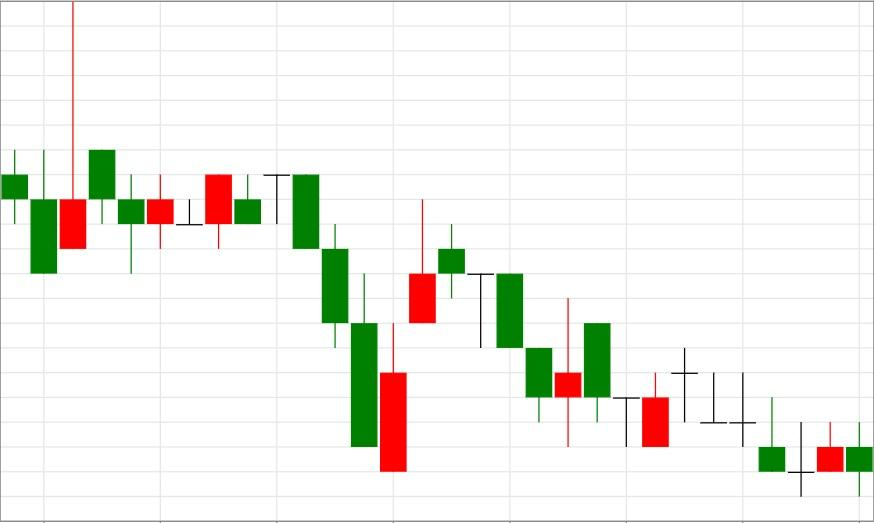inverse_hammer_rise: (0, 0, 87, 275)
three_black_crows_fall: (117, 173, 379, 448)
